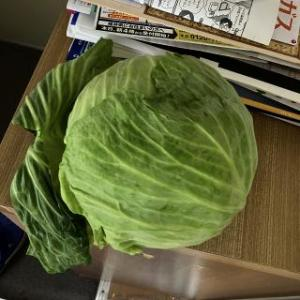cabbage: (57, 52, 259, 258)
